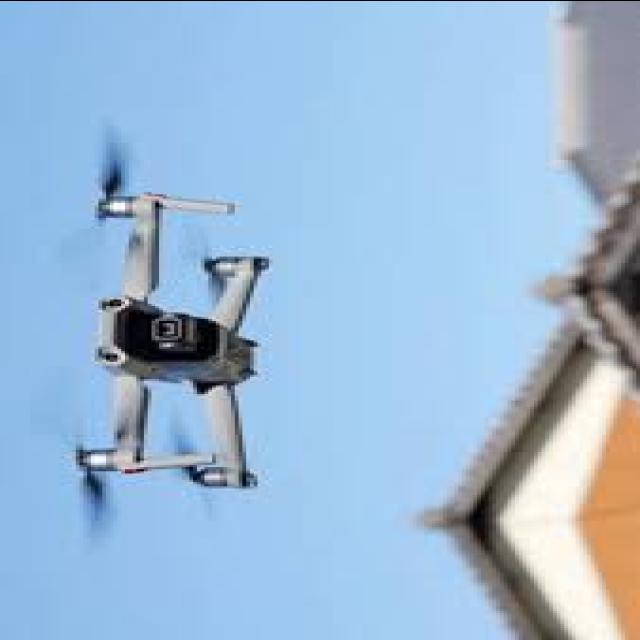drone: (56, 146, 288, 537)
